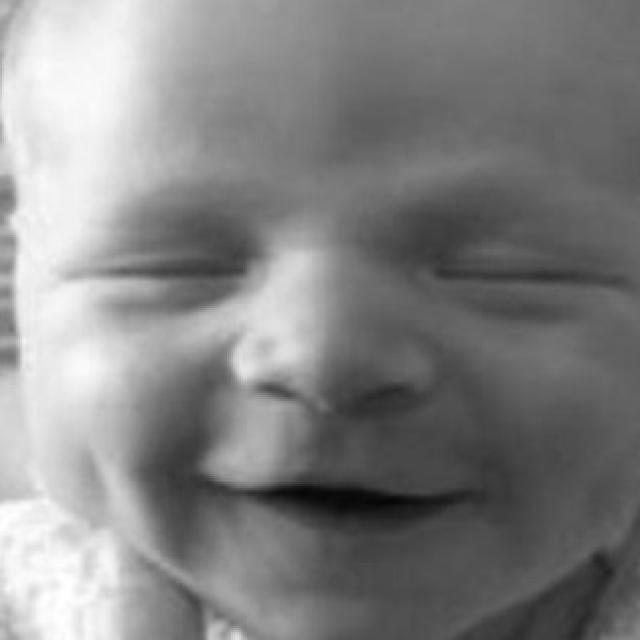real: (18, 34, 637, 609), (75, 194, 616, 314)
